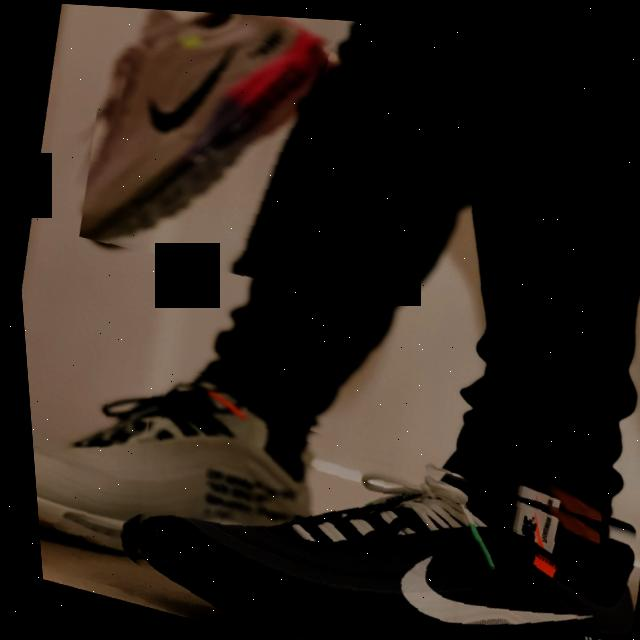shoe: (99, 377, 640, 640), (19, 322, 322, 631), (61, 3, 353, 295)
